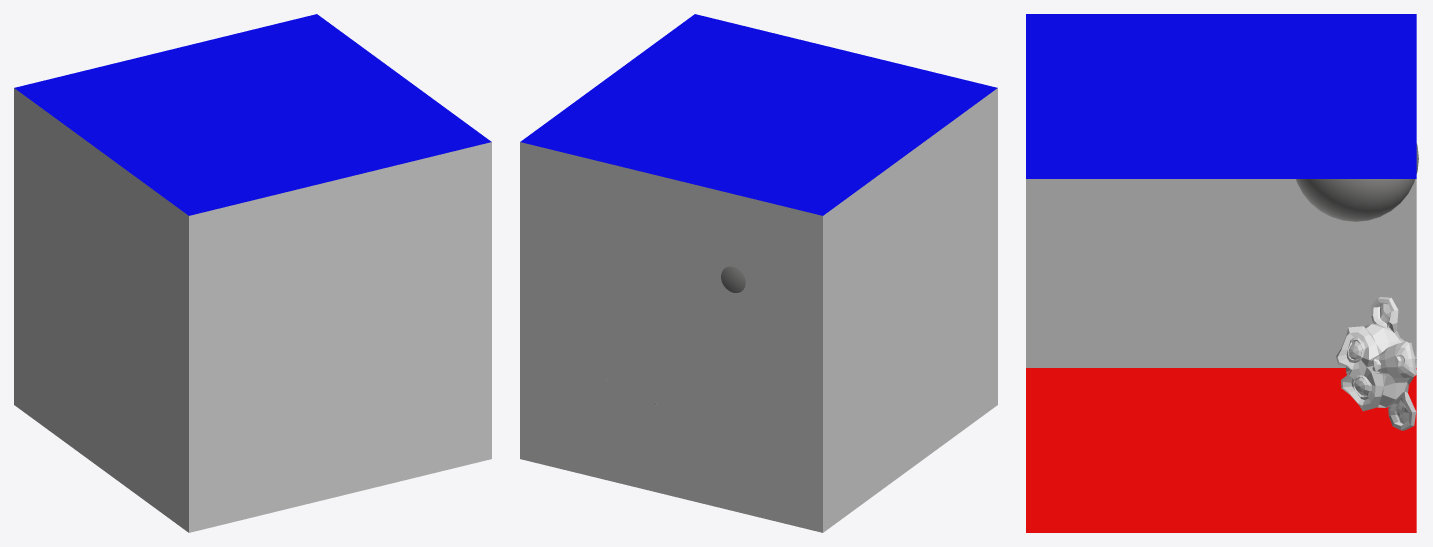
The model's file is cornell.gltf.
The picture shows the model from 3 angles, left to right: view 1: azimuth 30°, elevation 25°; view 2: azimuth 150°, elevation 25°; view 3: azimuth 270°, elevation 25°; orthographic projection. The views are drawn at different scales.
Parts seen in each view (by area): view 1: Cube; view 2: Cube; view 3: Cube, Suzanne, Sphere.
Boxes of the visible parts, x1,y1,x2,y2 form: Cube: (14, 14, 491, 532); Cube: (520, 14, 997, 532); Cube: (1026, 14, 1416, 532); Suzanne: (1336, 297, 1416, 430); Sphere: (1296, 143, 1418, 221).
Bounding box in the file's own units: 2 × 2 × 2.01.
